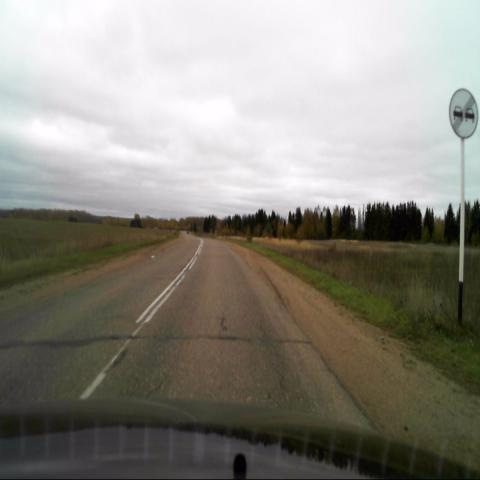3_21: (449, 85, 479, 142)
